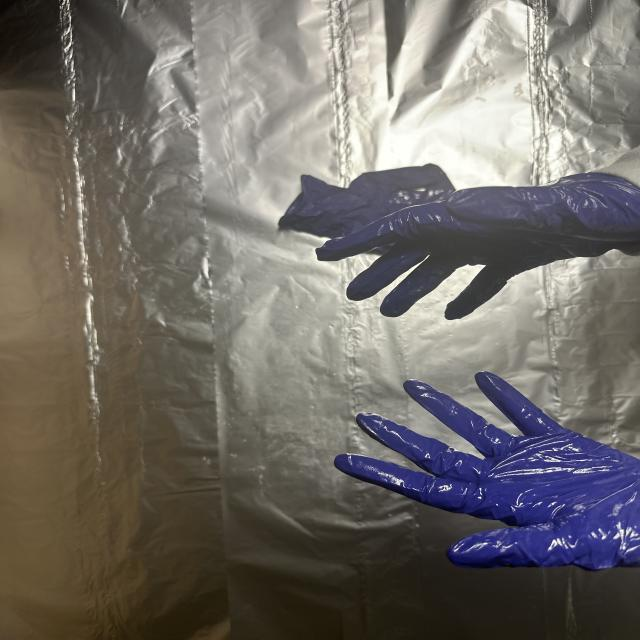gloves_contaminated: (334, 372, 640, 570), (316, 172, 640, 320)
